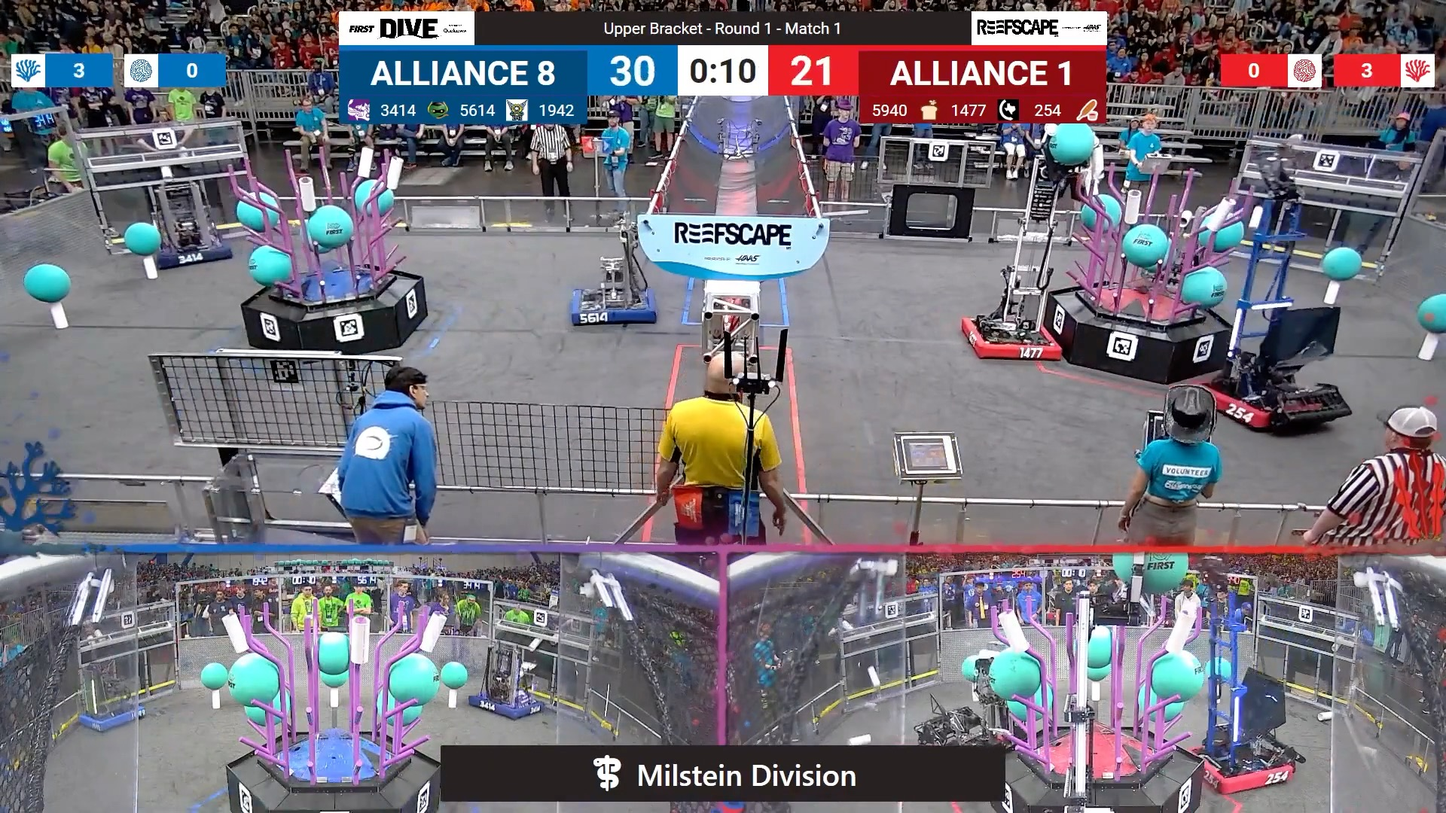bumpers: (1182, 368, 1348, 435), (1175, 732, 1305, 792), (956, 313, 1066, 365), (565, 280, 660, 331), (74, 693, 148, 737), (465, 684, 546, 721), (148, 239, 239, 271)
